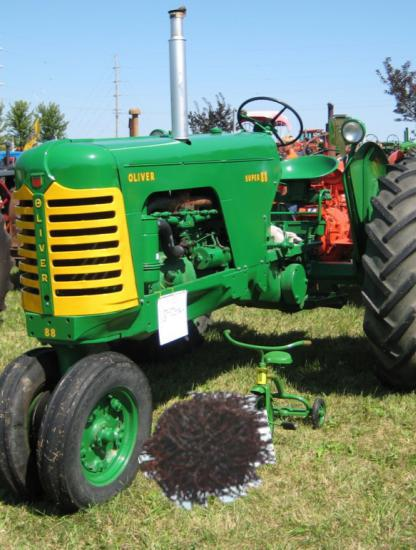Rambutan: (138, 385, 274, 521)
